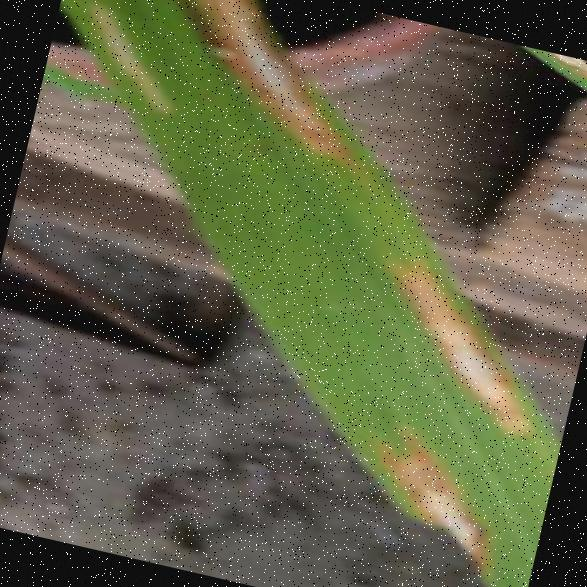Leaf_smut: (284, 362, 522, 572), (356, 229, 560, 442), (165, 0, 364, 157), (52, 0, 193, 127)
